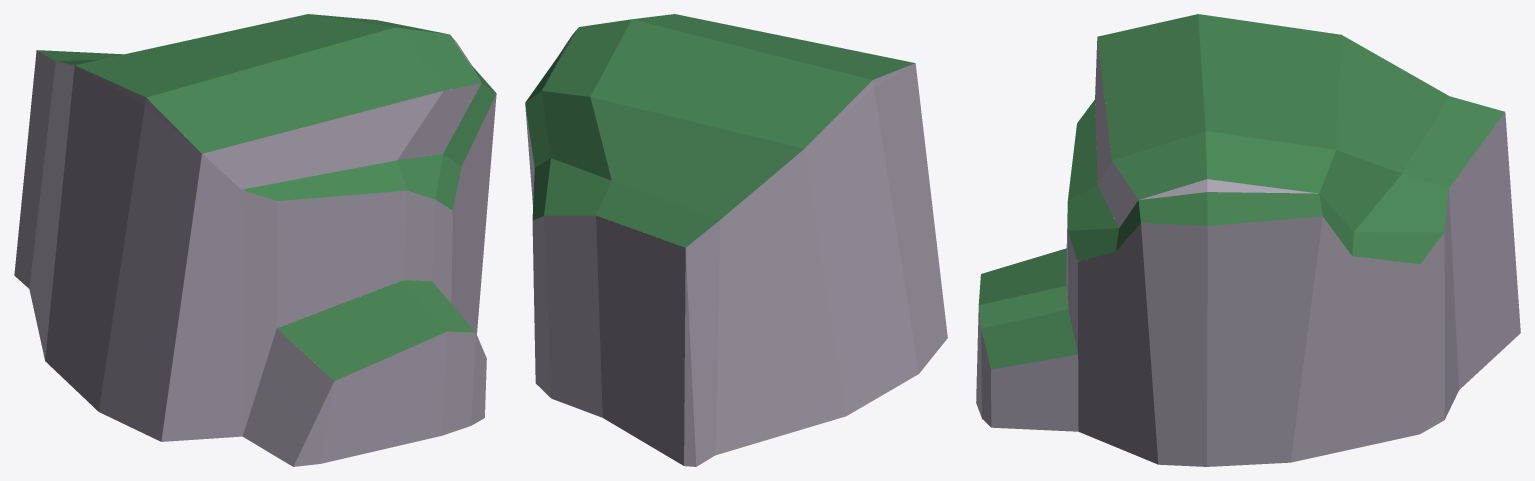
File: Rock_Moss_6-optimized.glb
3 views of the same model, side by side, from view 1: azimuth 30°, elevation 25°; view 2: azimuth 150°, elevation 25°; view 3: azimuth 270°, elevation 25° (orthographic). The views are drawn at different scales.
Parts seen in each view (by area): view 1: Rock_Moss_6; view 2: Rock_Moss_6; view 3: Rock_Moss_6.
Part boxes in pixels (left/top/right/bottom): Rock_Moss_6: left=14, top=14, right=496, bottom=466; Rock_Moss_6: left=525, top=14, right=947, bottom=466; Rock_Moss_6: left=976, top=14, right=1520, bottom=466.
Size of the model in its own units: 0.912 by 0.7078 by 1.14.
